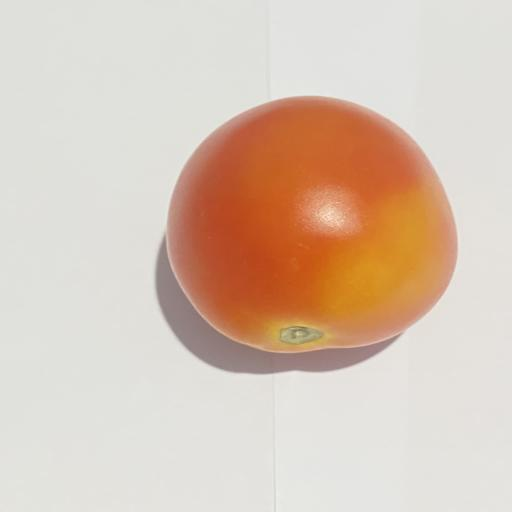ripe: (167, 97, 457, 353)
